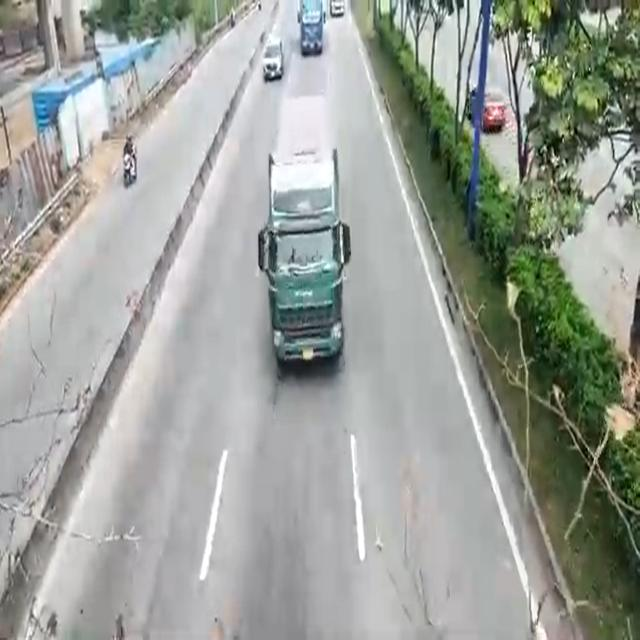car: (263, 36, 283, 82)
motor: (120, 131, 138, 189)
truck: (272, 94, 344, 382), (300, 0, 322, 60)
